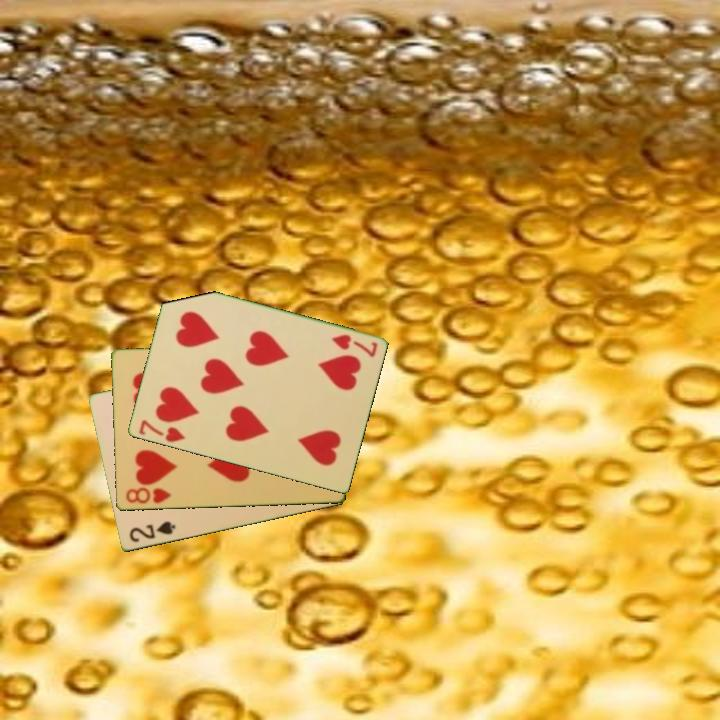2s: (126, 518, 178, 546)
7h: (135, 416, 188, 445), (328, 331, 380, 360)
8h: (122, 484, 175, 507)
